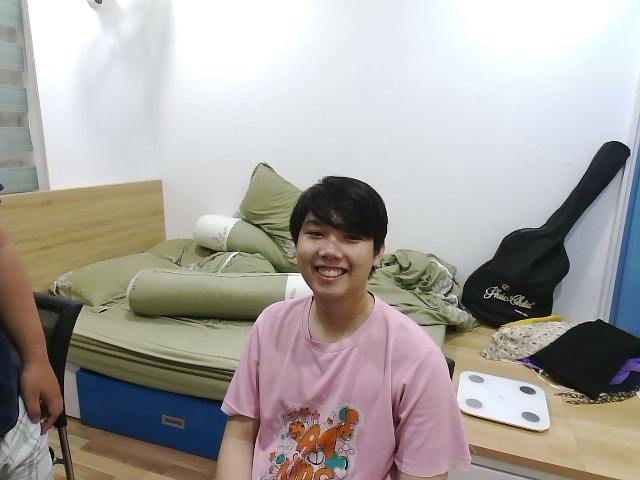face: (290, 177, 389, 297)
